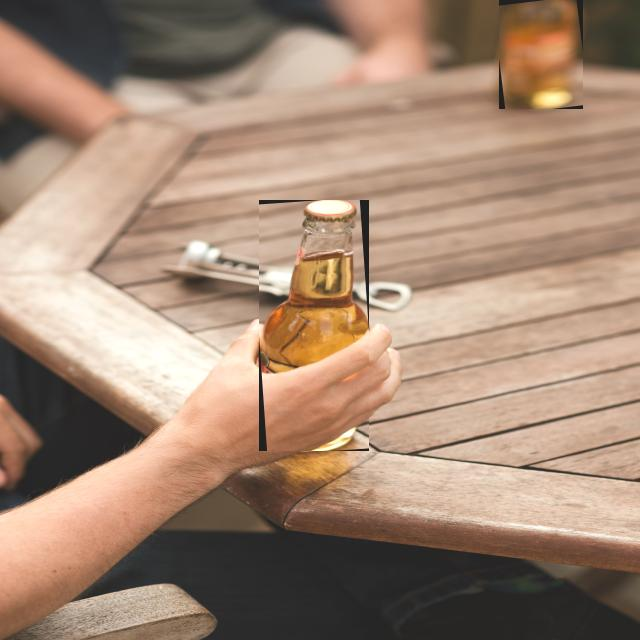Bottle: (258, 201, 368, 368), (499, 0, 582, 109)
